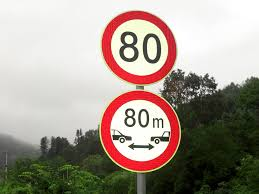Speed_limit_80km: (101, 10, 179, 85)
